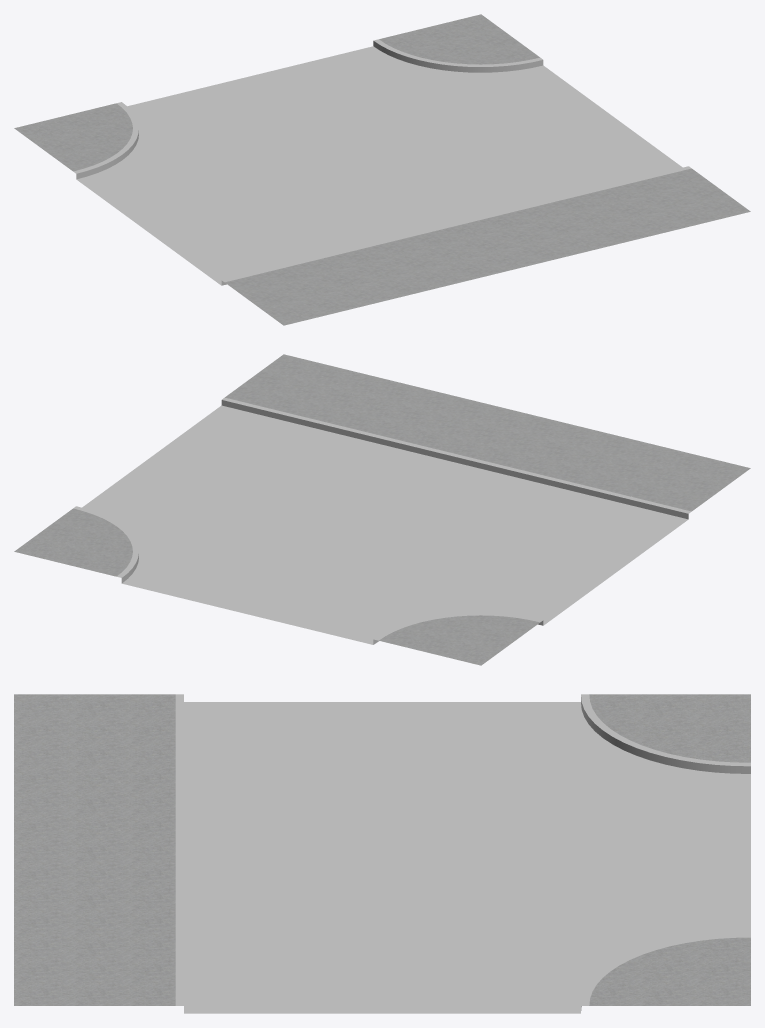
The model's file is Road_Module06.fbx.
3 renders of one model, top to bottom at view 1: azimuth 30°, elevation 25°; view 2: azimuth 150°, elevation 25°; view 3: azimuth 270°, elevation 25°, orthographic. The views are drawn at different scales.
Parts seen in each view (by area): view 1: Road_Module06; view 2: Road_Module06; view 3: Road_Module06.
Part boxes in pixels (bbox=[...]): Road_Module06: bbox=[14, 14, 750, 325]; Road_Module06: bbox=[14, 354, 750, 665]; Road_Module06: bbox=[14, 694, 750, 1013].
Size of the model in its own units: 13 by 0.15 by 13.
